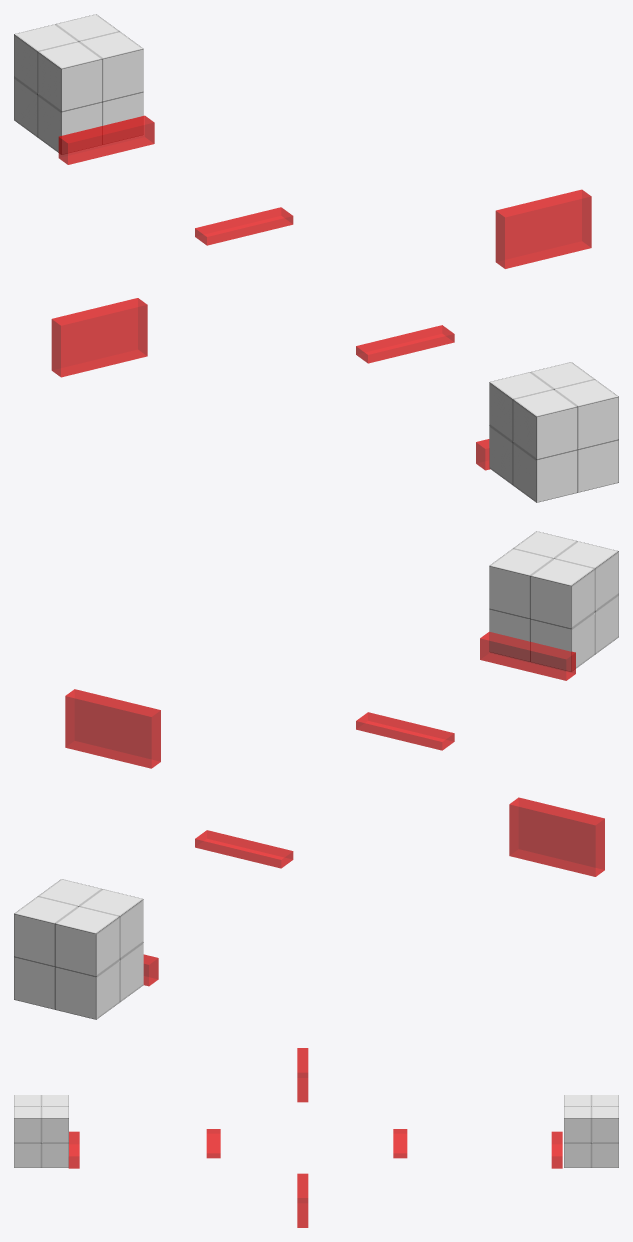
3 renders of one model, top to bottom at view 1: azimuth 30°, elevation 25°; view 2: azimuth 150°, elevation 25°; view 3: azimuth 270°, elevation 25°, orthographic. The views are drawn at different scales.
Parts seen in each view (by area): view 1: Plane/BasicEnvironment/StartCube-1, Plane/BasicEnvironment/StartCube-2, Plane/Setting4/BlockingCube (2), Plane/Setting4/BlockingCube (1), Plane/Setting4/StartBlocker-1, Plane/Setting4/BlockingCube (3), Plane/Setting4/BlockingCube; view 2: Plane/BasicEnvironment/StartCube-2, Plane/BasicEnvironment/StartCube-1, Plane/Setting4/BlockingCube (2), Plane/Setting4/BlockingCube (1), Plane/Setting4/StartBlocker-2, Plane/Setting4/BlockingCube, Plane/Setting4/BlockingCube (3); view 3: Plane/BasicEnvironment/StartCube-1, Plane/BasicEnvironment/StartCube-2, Plane/Setting4/BlockingCube (2), Plane/Setting4/BlockingCube (1), Plane/Setting4/StartBlocker-1, Plane/Setting4/BlockingCube (3), Plane/Setting4/BlockingCube, Plane/Setting4/StartBlocker-2.
Boxes of the visible parts, <box> form: Plane/BasicEnvironment/StartCube-1: <box>489,362,618,502</box>; Plane/BasicEnvironment/StartCube-2: <box>14,14,143,154</box>; Plane/Setting4/BlockingCube (2): <box>51,298,147,377</box>; Plane/Setting4/BlockingCube (1): <box>495,189,591,268</box>; Plane/Setting4/StartBlocker-1: <box>58,115,154,164</box>; Plane/Setting4/BlockingCube (3): <box>195,207,293,245</box>; Plane/Setting4/BlockingCube: <box>356,325,454,363</box>; Plane/BasicEnvironment/StartCube-2: <box>14,879,143,1019</box>; Plane/BasicEnvironment/StartCube-1: <box>489,531,618,671</box>; Plane/Setting4/BlockingCube (2): <box>509,797,604,876</box>; Plane/Setting4/BlockingCube (1): <box>65,689,160,768</box>; Plane/Setting4/StartBlocker-2: <box>480,632,575,680</box>; Plane/Setting4/BlockingCube: <box>356,712,454,750</box>; Plane/Setting4/BlockingCube (3): <box>195,830,293,868</box>; Plane/BasicEnvironment/StartCube-1: <box>14,1095,68,1167</box>; Plane/BasicEnvironment/StartCube-2: <box>564,1095,618,1167</box>; Plane/Setting4/BlockingCube (2): <box>297,1048,308,1102</box>; Plane/Setting4/BlockingCube (1): <box>297,1173,308,1227</box>; Plane/Setting4/StartBlocker-1: <box>551,1131,562,1168</box>; Plane/Setting4/BlockingCube (3): <box>393,1129,407,1158</box>; Plane/Setting4/BlockingCube: <box>206,1129,220,1158</box>; Plane/Setting4/StartBlocker-2: <box>68,1131,79,1168</box>.
Bounding box in the file's own units: 1.29 × 0.2028 × 2.2.
